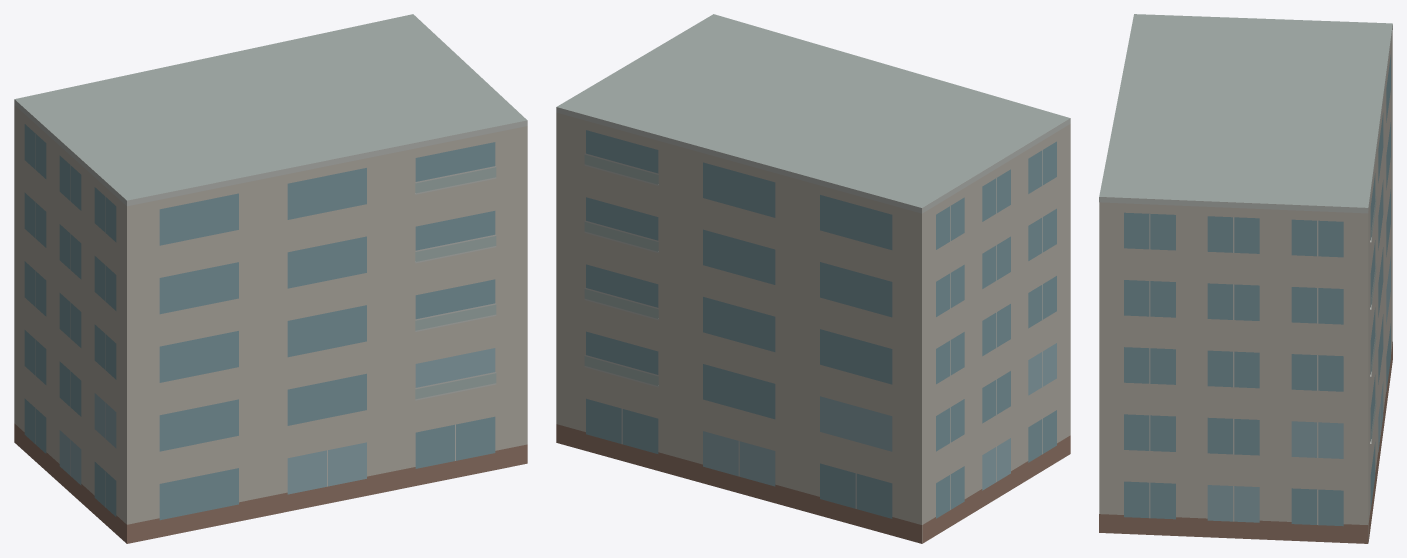
File: survey-upis-32769964.glb
3 renders of one model, left to right at view 1: azimuth 30°, elevation 25°; view 2: azimuth 150°, elevation 25°; view 3: azimuth 270°, elevation 25°, orthographic. The views are drawn at different scales.
Parts seen in each view (by area): view 1: survey-upis-32769964.tmp; view 2: survey-upis-32769964.tmp; view 3: survey-upis-32769964.tmp.
Part boxes in pixels (x1,y1,x2,y2): survey-upis-32769964.tmp: (14, 14, 527, 543); survey-upis-32769964.tmp: (556, 14, 1070, 543); survey-upis-32769964.tmp: (1099, 14, 1392, 543).
Size of the model in its own units: 18.27 by 14.75 by 11.7.
